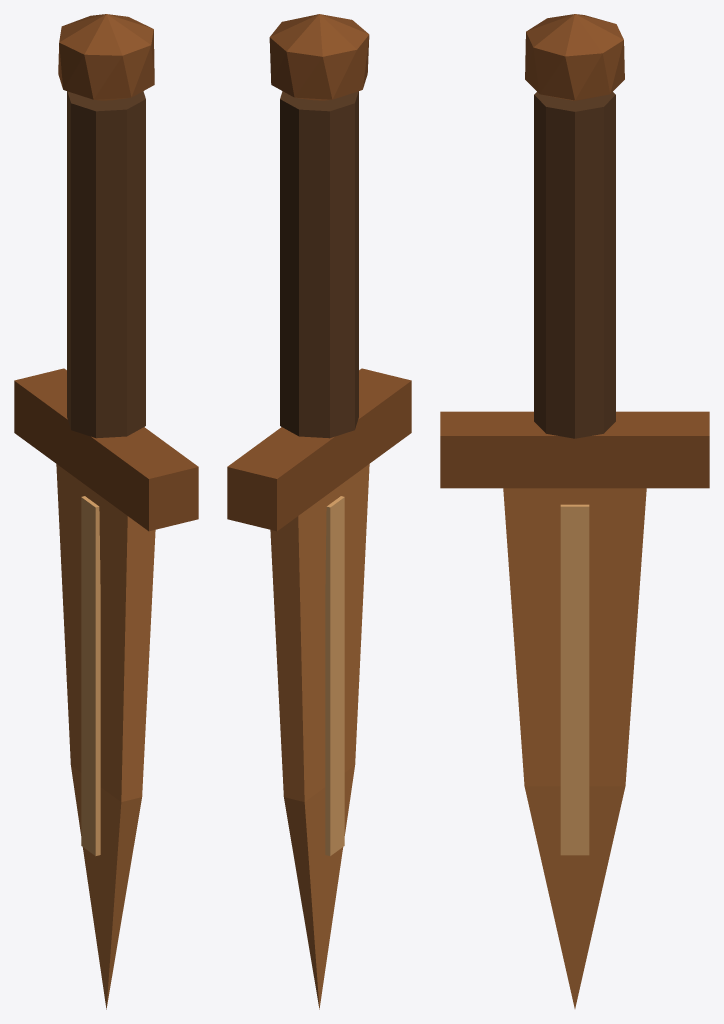
The model's file is held_bronze_dagger.glb.
The picture shows the model from 3 angles, left to right: view 1: azimuth 30°, elevation 25°; view 2: azimuth 150°, elevation 25°; view 3: azimuth 270°, elevation 25°; orthographic projection.
Parts seen in each view (by area): view 1: held_bronze_dagger; view 2: held_bronze_dagger; view 3: held_bronze_dagger.
Boxes of the visible parts, x1,y1,x2,y2 form: held_bronze_dagger: (14,14,198,1009); held_bronze_dagger: (227,14,411,1009); held_bronze_dagger: (440,14,709,1008).
Bounding box in the file's own units: 0.0416 × 0.457 × 0.112.
